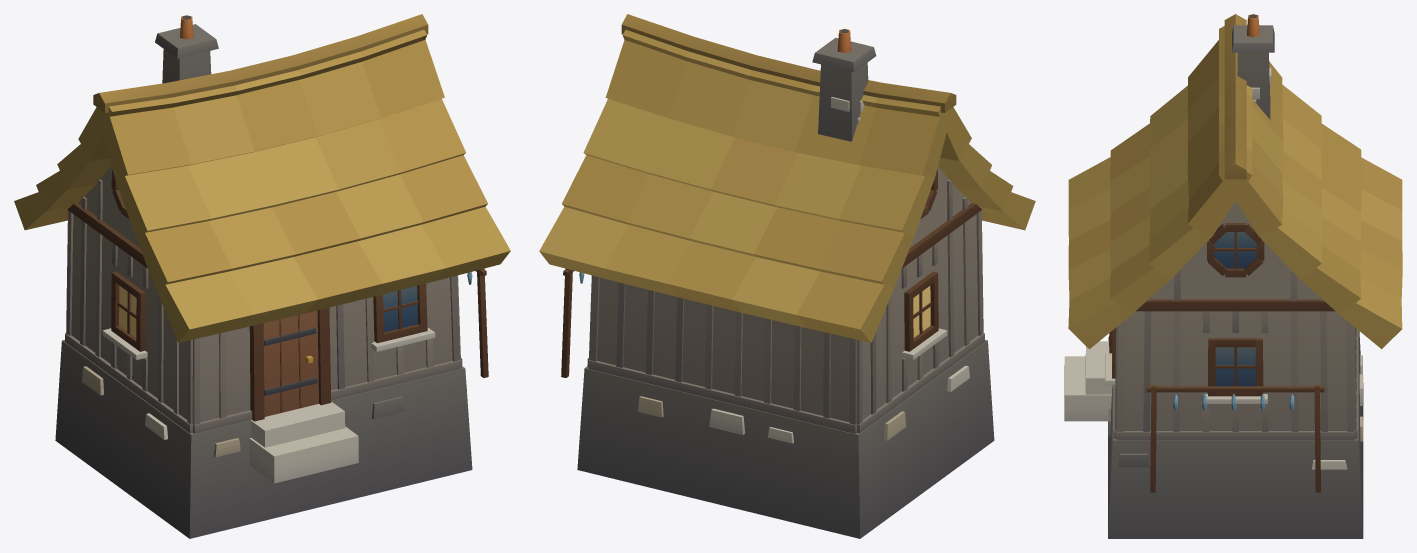
Rendered from house_13_fisher_hut.glb.
The picture shows the model from 3 angles, left to right: view 1: azimuth 30°, elevation 25°; view 2: azimuth 150°, elevation 25°; view 3: azimuth 270°, elevation 25°; orthographic projection. The views are drawn at different scales.
Parts seen in each view (by area): view 1: house_13_fisher_hut; view 2: house_13_fisher_hut; view 3: house_13_fisher_hut.
Boxes of the visible parts, x1=… form: house_13_fisher_hut: x1=14, y1=14, x2=510, y2=538; house_13_fisher_hut: x1=539, y1=14, x2=1035, y2=538; house_13_fisher_hut: x1=1064, y1=14, x2=1402, y2=538.
Bounding box in the file's own units: 21.43 × 26.59 × 19.16.
1 material, 1 textured.
